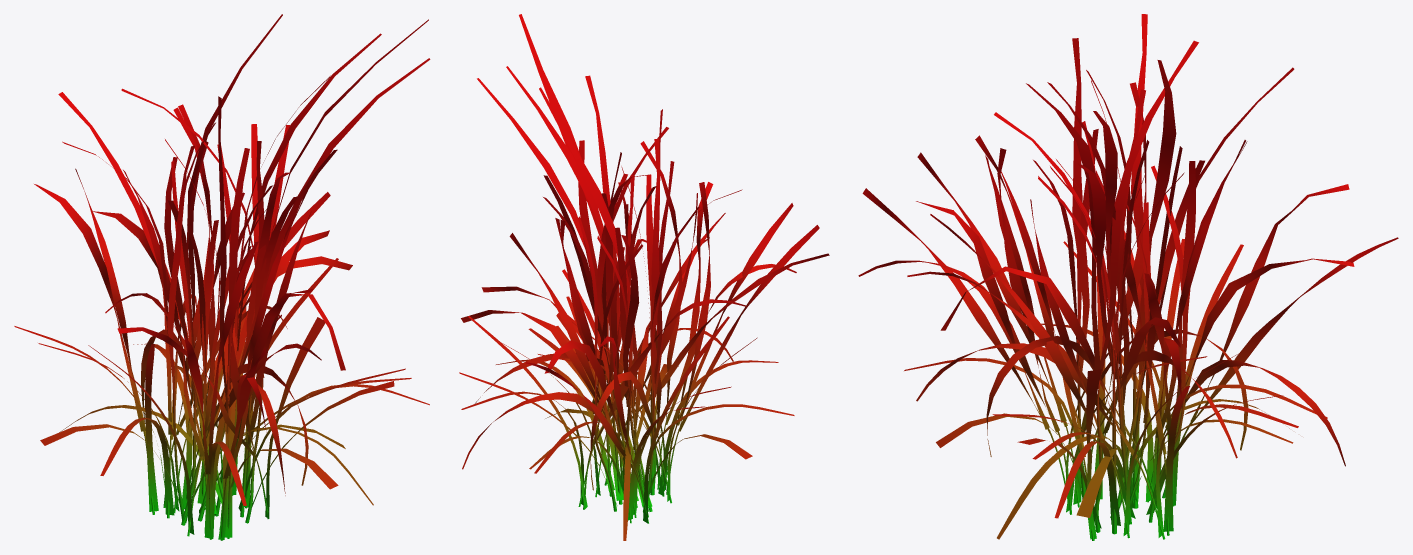
The model's file is Lemongrass_LOD1_Var5_sktne.fbx.
3 views of the same model, side by side, from view 1: azimuth 30°, elevation 25°; view 2: azimuth 150°, elevation 25°; view 3: azimuth 270°, elevation 25° (orthographic). The views are drawn at different scales.
Parts seen in each view (by area): view 1: _c4ba_Var5_LOD1; view 2: _c4ba_Var5_LOD1; view 3: _c4ba_Var5_LOD1.
Part boxes in pixels (bbox=[...]): _c4ba_Var5_LOD1: bbox=[14, 14, 430, 540]; _c4ba_Var5_LOD1: bbox=[459, 14, 829, 540]; _c4ba_Var5_LOD1: bbox=[858, 14, 1398, 540].
Size of the model in its own units: 51.25 by 67.09 by 62.36.
